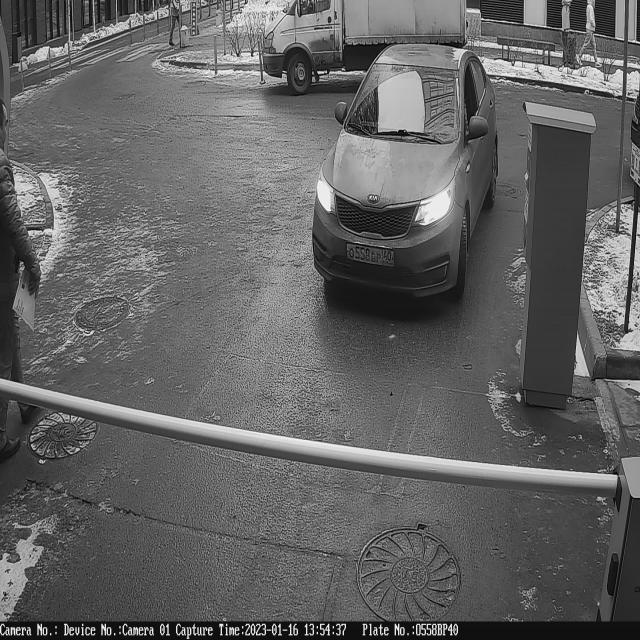car-plate-numbers: (344, 238, 399, 273)
